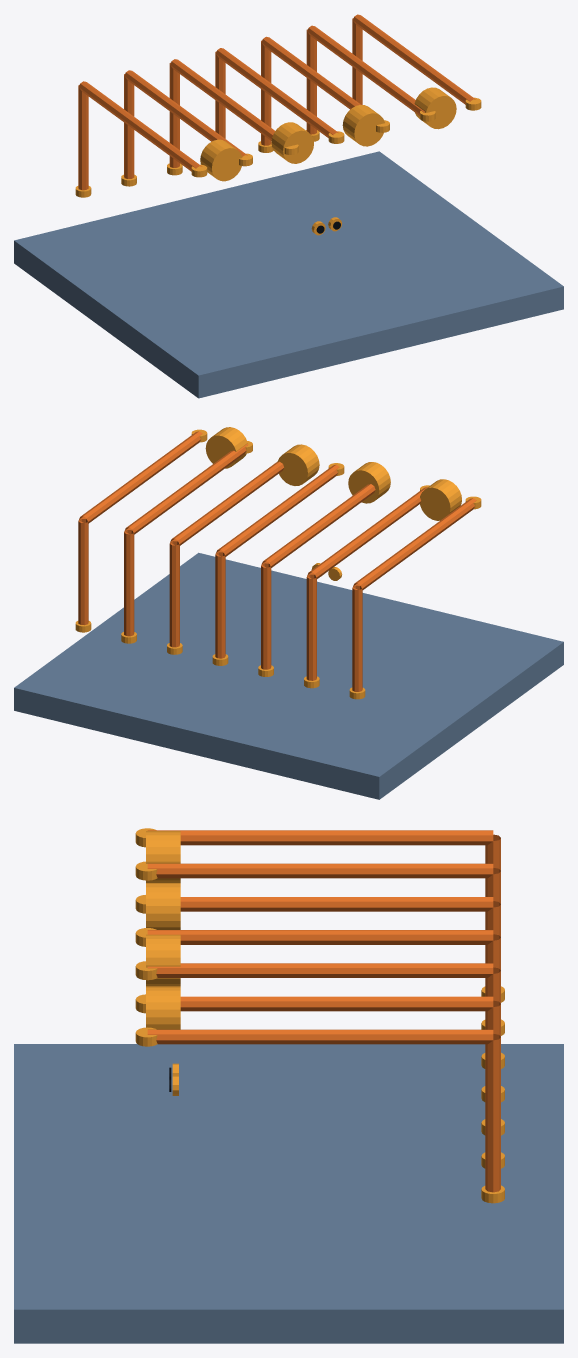
The model's file is 11_L89_StationShieldWaterUtilitySkid.fbx.
3 views of the same model, one above another, from view 1: azimuth 30°, elevation 25°; view 2: azimuth 150°, elevation 25°; view 3: azimuth 270°, elevation 25° (orthographic). The views are drawn at different scales.
Visible parts, largest first — view 1: L87_StationShieldWaterUtilitySkid_Part_0000, L87_StationShieldWaterUtilitySkid_Part_0001, L87_StationShieldWaterUtilitySkid_Part_0002; view 2: L87_StationShieldWaterUtilitySkid_Part_0000, L87_StationShieldWaterUtilitySkid_Part_0001, L87_StationShieldWaterUtilitySkid_Part_0002; view 3: L87_StationShieldWaterUtilitySkid_Part_0000, L87_StationShieldWaterUtilitySkid_Part_0001, L87_StationShieldWaterUtilitySkid_Part_0002.
Part boxes in pixels (<box>): L87_StationShieldWaterUtilitySkid_Part_0000: <box>14,151,563,398</box>; L87_StationShieldWaterUtilitySkid_Part_0001: <box>78,14,475,190</box>; L87_StationShieldWaterUtilitySkid_Part_0002: <box>75,87,481,197</box>; L87_StationShieldWaterUtilitySkid_Part_0000: <box>14,552,563,799</box>; L87_StationShieldWaterUtilitySkid_Part_0001: <box>78,431,476,691</box>; L87_StationShieldWaterUtilitySkid_Part_0002: <box>75,427,481,699</box>; L87_StationShieldWaterUtilitySkid_Part_0000: <box>14,1044,563,1343</box>; L87_StationShieldWaterUtilitySkid_Part_0001: <box>147,830,500,1192</box>; L87_StationShieldWaterUtilitySkid_Part_0002: <box>135,828,504,1203</box>.
Size of the model in its own units: 400 by 209 by 350.
